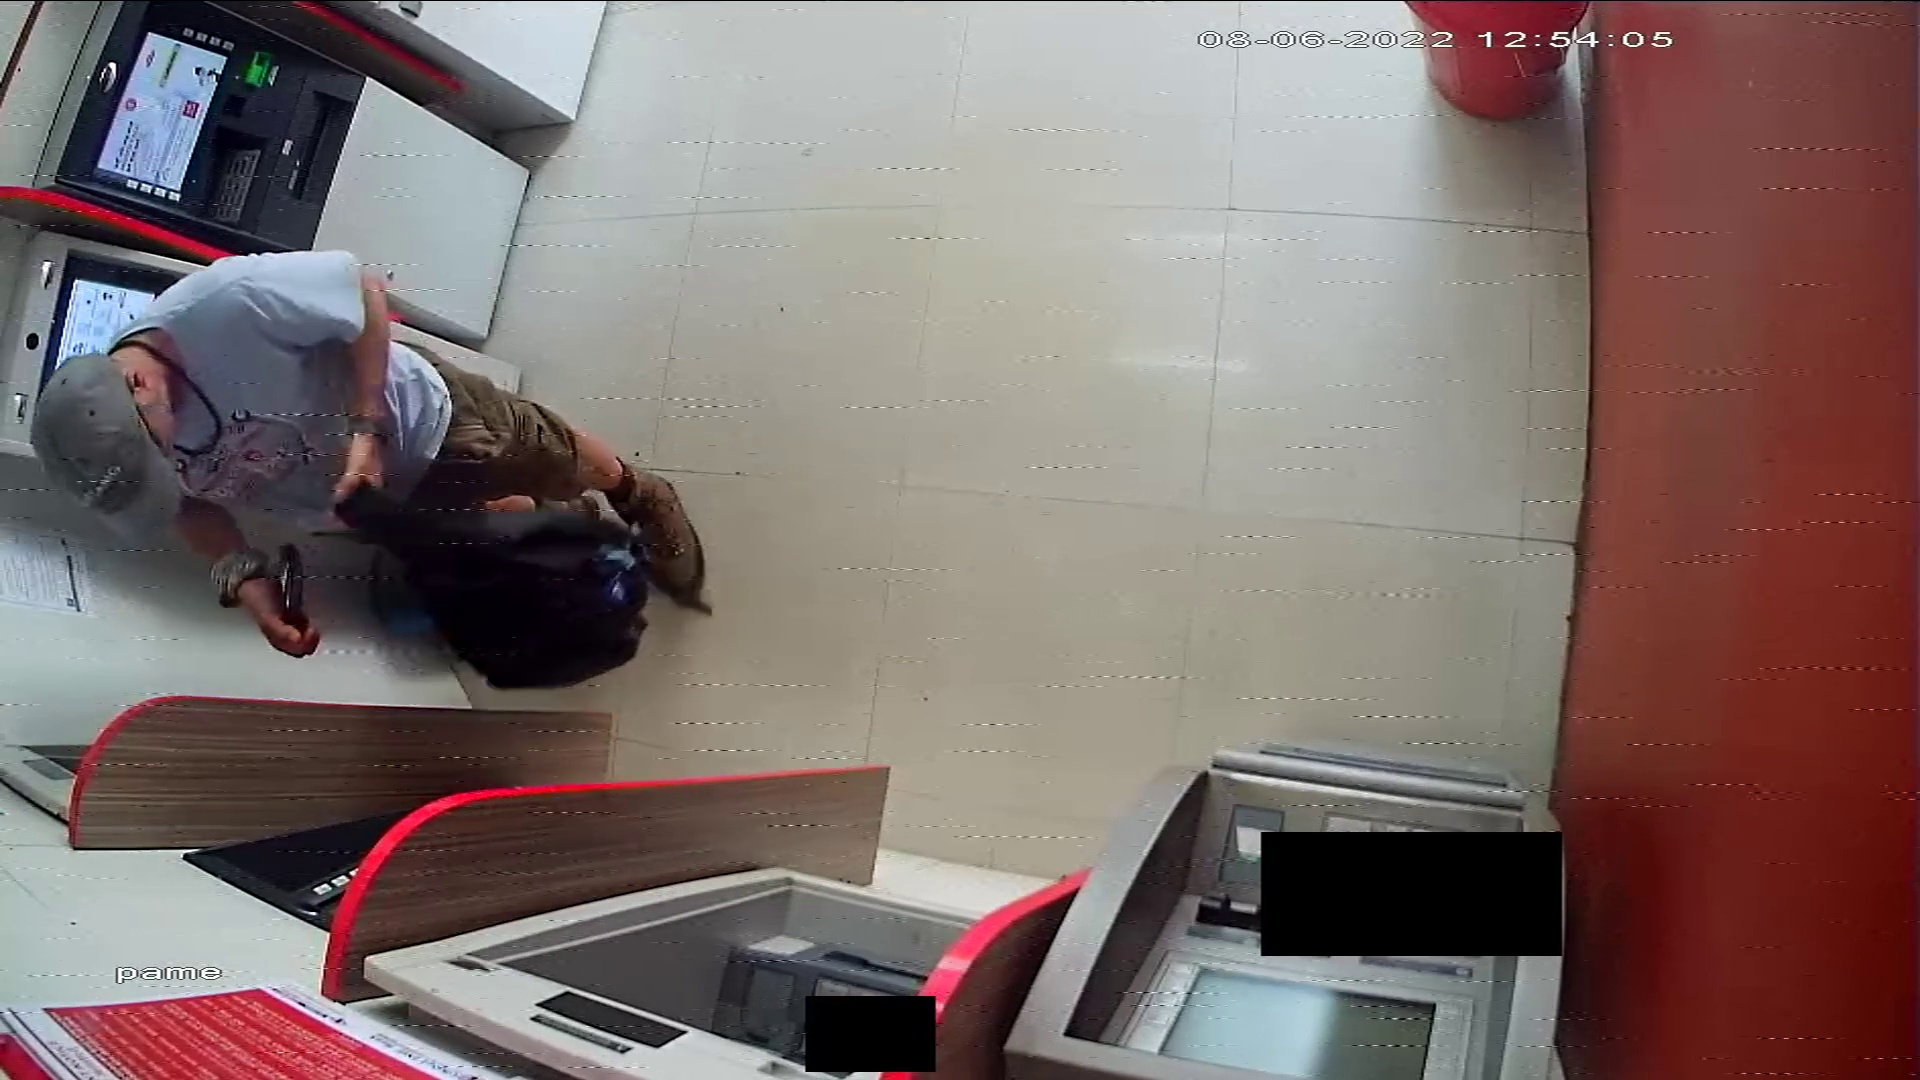person: (14, 244, 723, 651)
